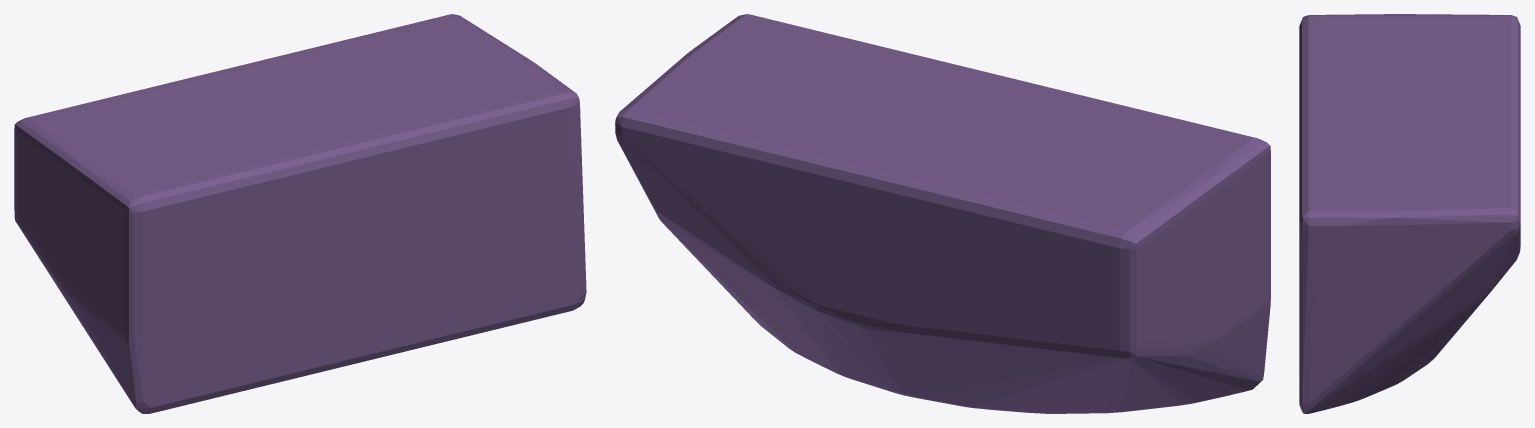
The model's file is left_shoulder_pitch_link_part_1.obj.
3 renders of one model, left to right at view 1: azimuth 30°, elevation 25°; view 2: azimuth 150°, elevation 25°; view 3: azimuth 270°, elevation 25°, orthographic. The views are drawn at different scales.
Size of the model in its own units: 0.0597 by 0.0273 by 0.027.
